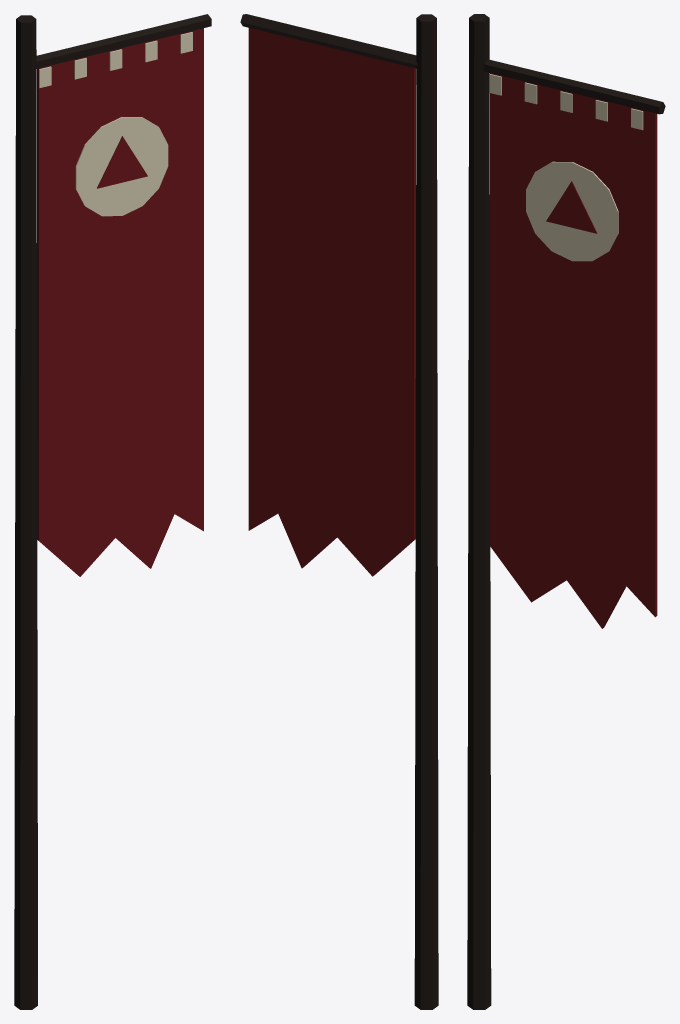
The model's file is banner.glb.
The picture shows the model from 3 angles, left to right: view 1: azimuth 30°, elevation 25°; view 2: azimuth 150°, elevation 25°; view 3: azimuth 330°, elevation 25°; orthographic projection.
Parts seen in each view (by area): view 1: Banner; view 2: Banner; view 3: Banner.
Boxes of the visible parts, x1,y1,x2,y2 form: Banner: (14,14,211,1009); Banner: (240,14,438,1009); Banner: (467,14,665,1009).
Size of the model in its own units: 0.6503 by 3.2 by 0.07.
